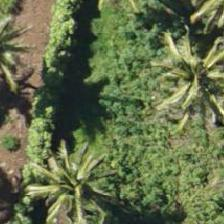coconut_tree: (28, 134, 118, 223), (153, 25, 223, 115)
